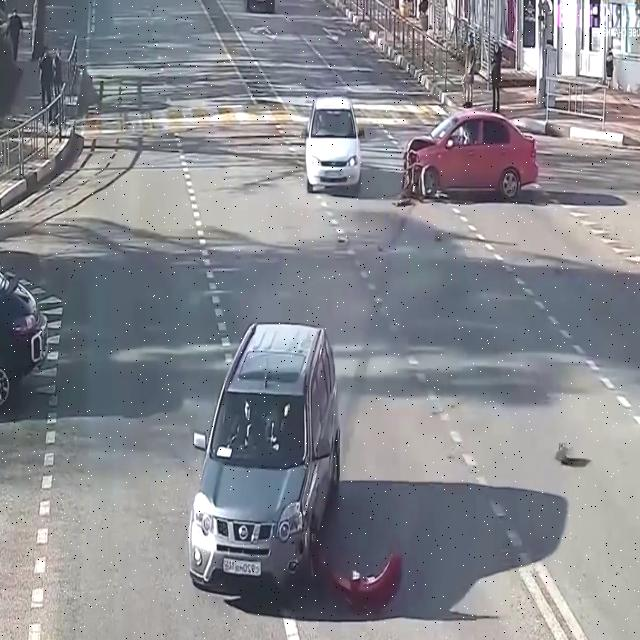accident: (174, 304, 417, 633), (381, 106, 544, 222)
